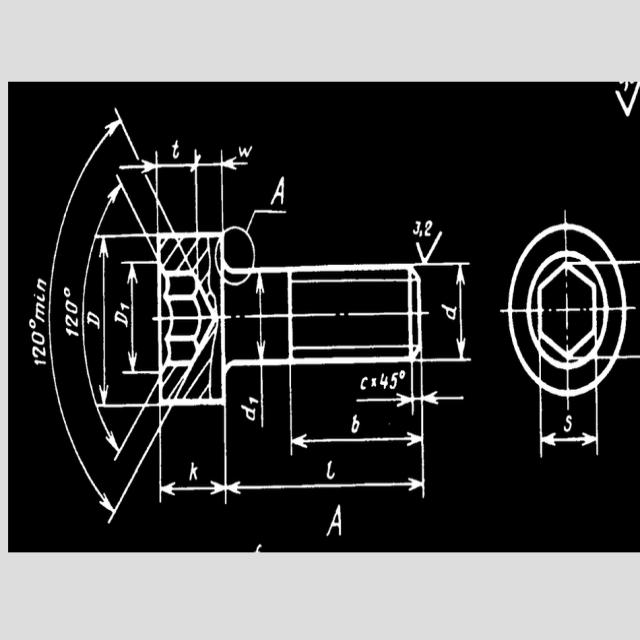marking_line: (228, 477, 422, 492), (293, 427, 422, 449), (99, 237, 115, 397), (126, 264, 139, 369), (544, 429, 600, 453), (455, 263, 467, 360), (158, 481, 225, 497), (423, 387, 468, 409), (256, 276, 268, 358), (355, 393, 413, 407), (117, 157, 154, 174), (221, 157, 252, 171)
numeric: (375, 366, 406, 392), (411, 220, 436, 238)
special_symbol: (414, 230, 448, 260)
